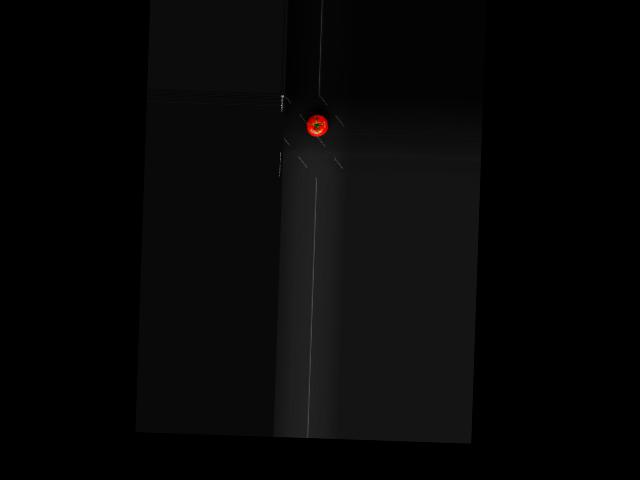tomato: (305, 114, 328, 137)
